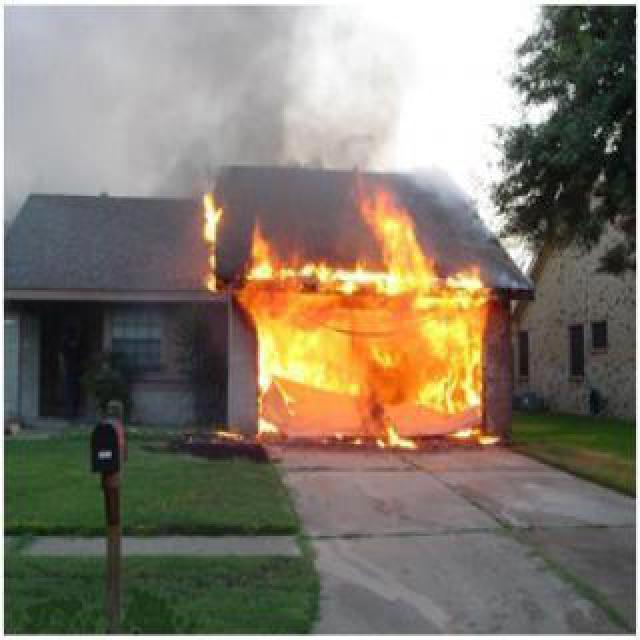Fire: (248, 224, 490, 436), (200, 190, 232, 286)
Smoke: (8, 14, 398, 166)
